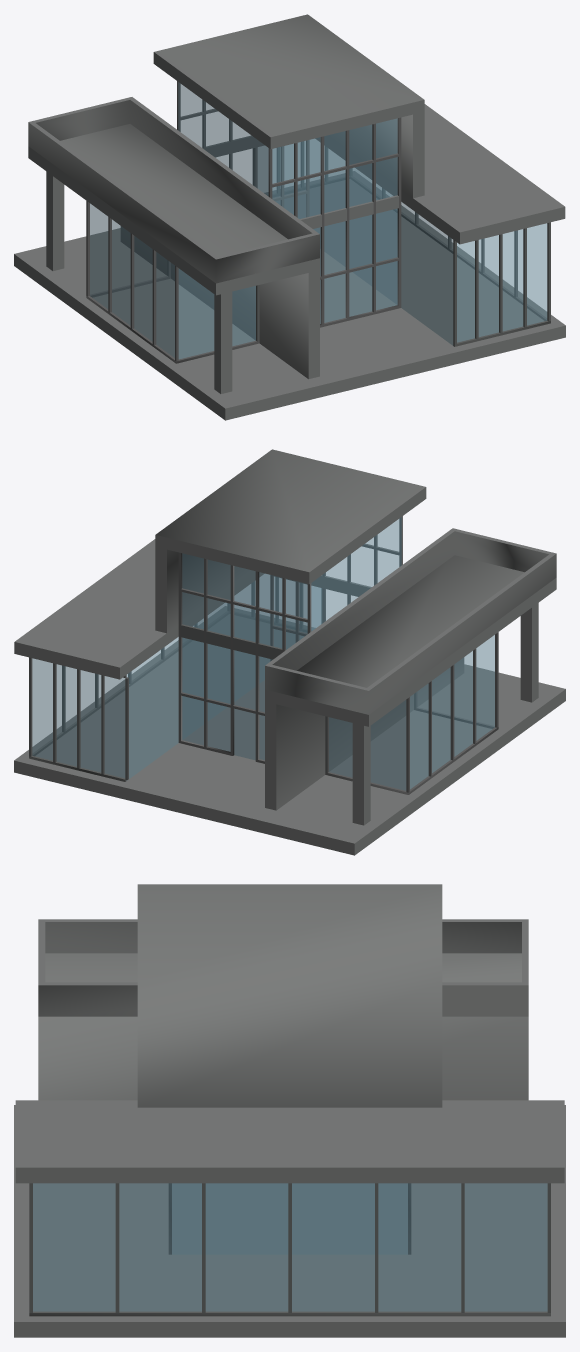
The model's file is Modern Houses.glb.
The picture shows the model from 3 angles, top to bottom: view 1: azimuth 30°, elevation 25°; view 2: azimuth 150°, elevation 25°; view 3: azimuth 270°, elevation 25°; orthographic projection. The views are drawn at different scales.
Visible parts, largest first — view 1: Root; view 2: Root; view 3: Root.
Boxes of the visible parts, x1,y1,x2,y2 form: Root: (14, 14, 565, 420); Root: (14, 449, 565, 855); Root: (14, 884, 565, 1337).
Size of the model in its own units: 14.89 by 9.44 by 16.
